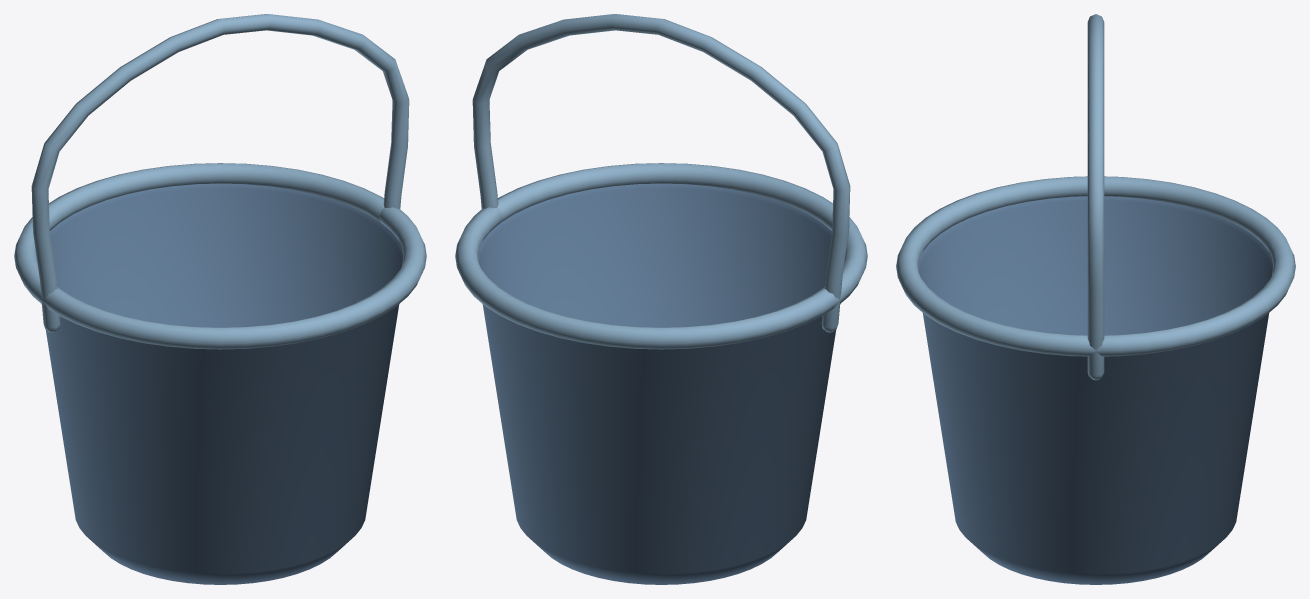
The model's file is bucket.glb.
The picture shows the model from 3 angles, left to right: view 1: azimuth 30°, elevation 25°; view 2: azimuth 150°, elevation 25°; view 3: azimuth 270°, elevation 25°; orthographic projection. The views are drawn at different scales.
Visible parts, largest first — view 1: Metal_bucket, Rolled_lip, Swing_handle; view 2: Metal_bucket, Rolled_lip, Swing_handle; view 3: Metal_bucket, Rolled_lip, Swing_handle.
Boxes of the visible parts, x1=… form: Metal_bucket: x1=41, y1=183, x2=403, y2=584; Rolled_lip: x1=14, y1=163, x2=426, y2=349; Swing_handle: x1=31, y1=14, x2=409, y2=332; Metal_bucket: x1=478, y1=183, x2=840, y2=584; Rolled_lip: x1=455, y1=163, x2=867, y2=349; Swing_handle: x1=472, y1=14, x2=850, y2=332; Metal_bucket: x1=918, y1=196, x2=1273, y2=584; Rolled_lip: x1=896, y1=176, x2=1295, y2=356; Swing_handle: x1=1087, y1=14, x2=1104, y2=380.
Bounding box in the file's own units: 0.446 × 0.589 × 0.424.
